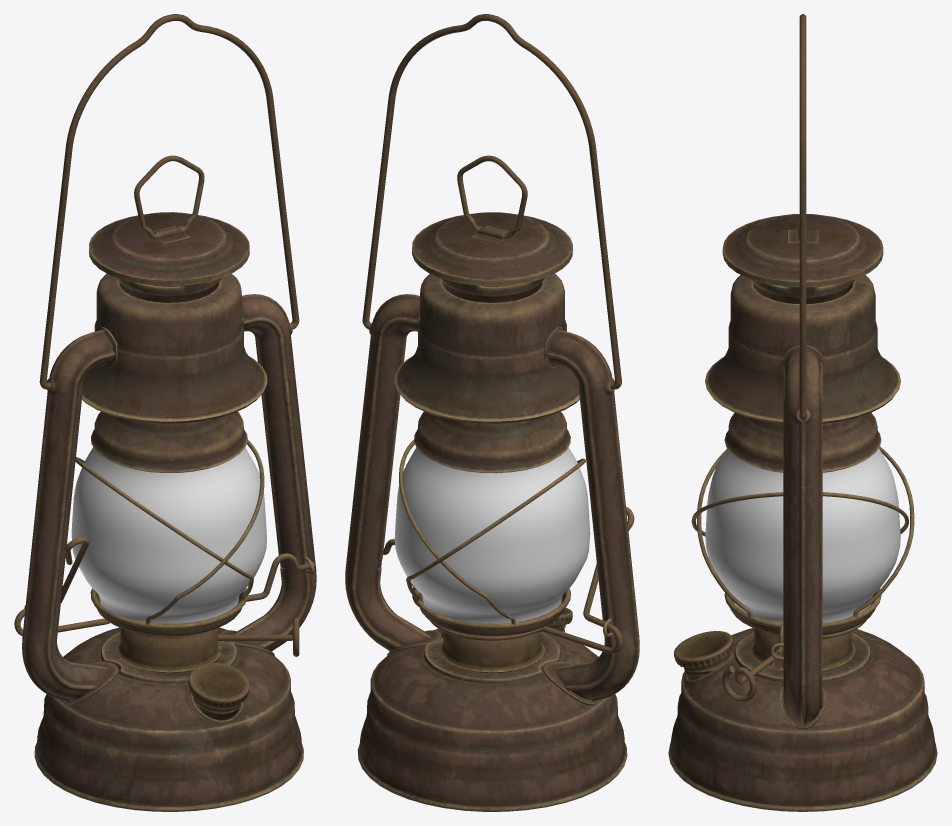
Rendered from 煤油灯.fbx.
3 views of the same model, side by side, from view 1: azimuth 30°, elevation 25°; view 2: azimuth 150°, elevation 25°; view 3: azimuth 270°, elevation 25° (orthographic).
Visible parts, largest first — view 1: Lantern_01.001, Lantern_01_glass.001; view 2: Lantern_01.001, Lantern_01_glass.001; view 3: Lantern_01.001, Lantern_01_glass.001.
Part boxes in pixels (bbox=[...]): Lantern_01.001: bbox=[14, 14, 316, 811]; Lantern_01_glass.001: bbox=[71, 447, 266, 623]; Lantern_01.001: bbox=[345, 14, 639, 811]; Lantern_01_glass.001: bbox=[394, 447, 590, 623]; Lantern_01.001: bbox=[668, 14, 937, 811]; Lantern_01_glass.001: bbox=[705, 448, 900, 622].
Size of the model in its own units: 338 by 814 by 269.
